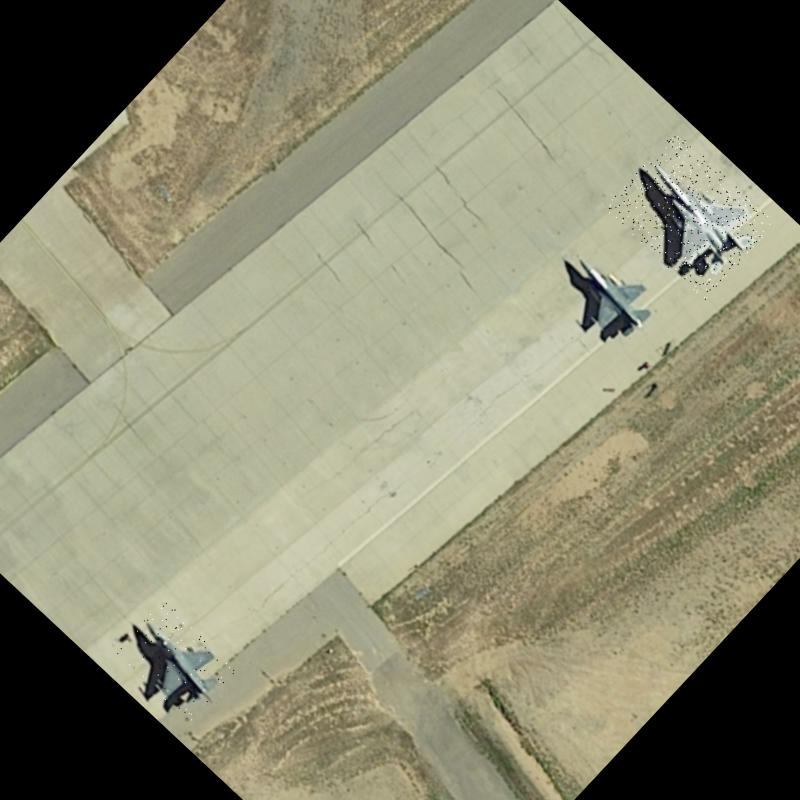A13: (603, 131, 776, 302)
A5: (112, 598, 239, 723), (551, 236, 670, 355)
